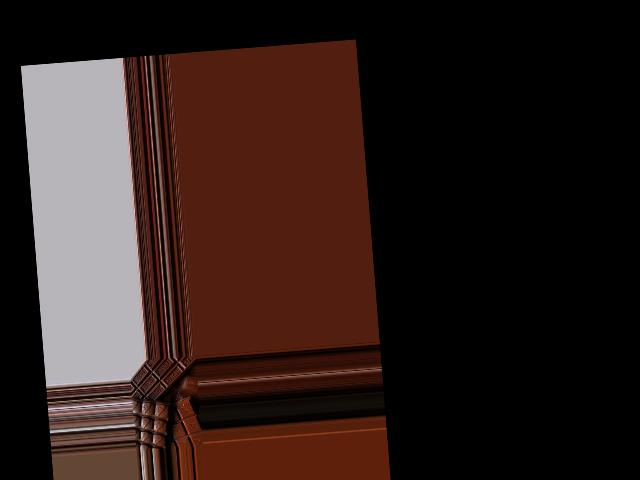chocolate: (156, 396, 199, 449)
